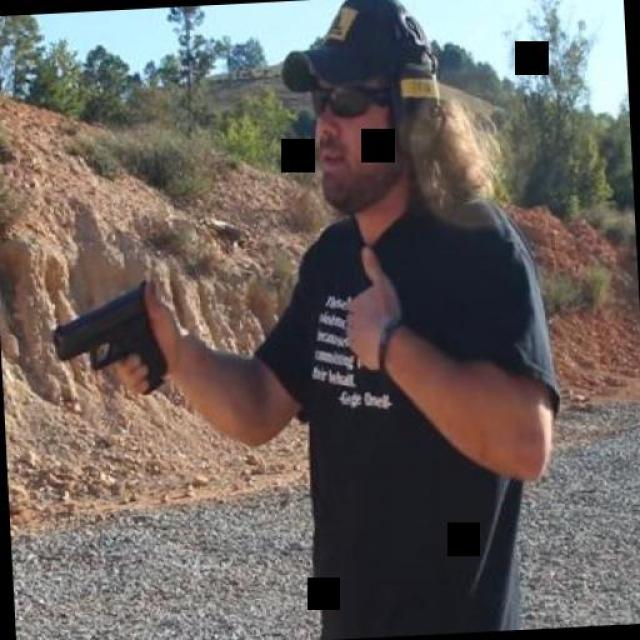gun: (44, 278, 170, 398)
